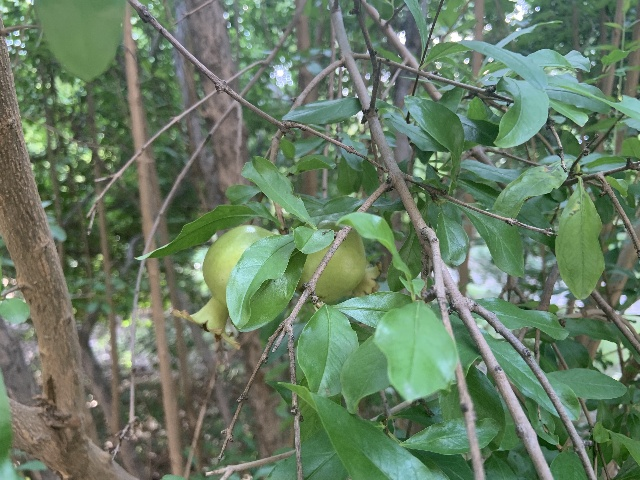mid-growth: (170, 224, 276, 348), (296, 226, 383, 302)
